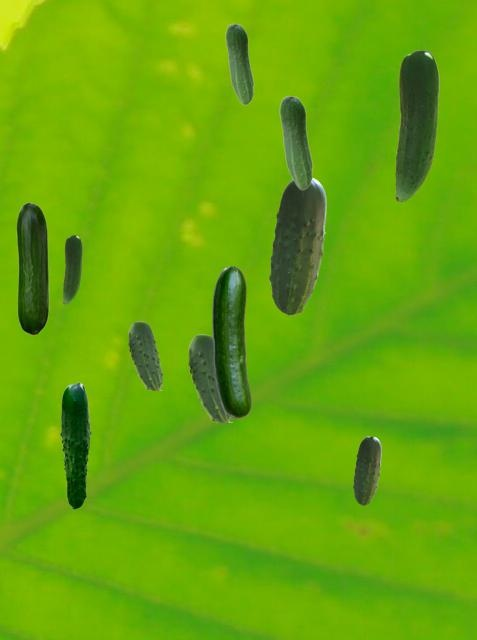cucumber: (269, 177, 325, 314), (395, 50, 438, 201), (212, 266, 250, 417), (16, 202, 48, 334), (60, 382, 90, 508), (188, 334, 231, 421), (279, 95, 312, 189), (225, 23, 253, 104), (128, 321, 161, 389), (353, 436, 380, 504), (63, 235, 81, 303)
